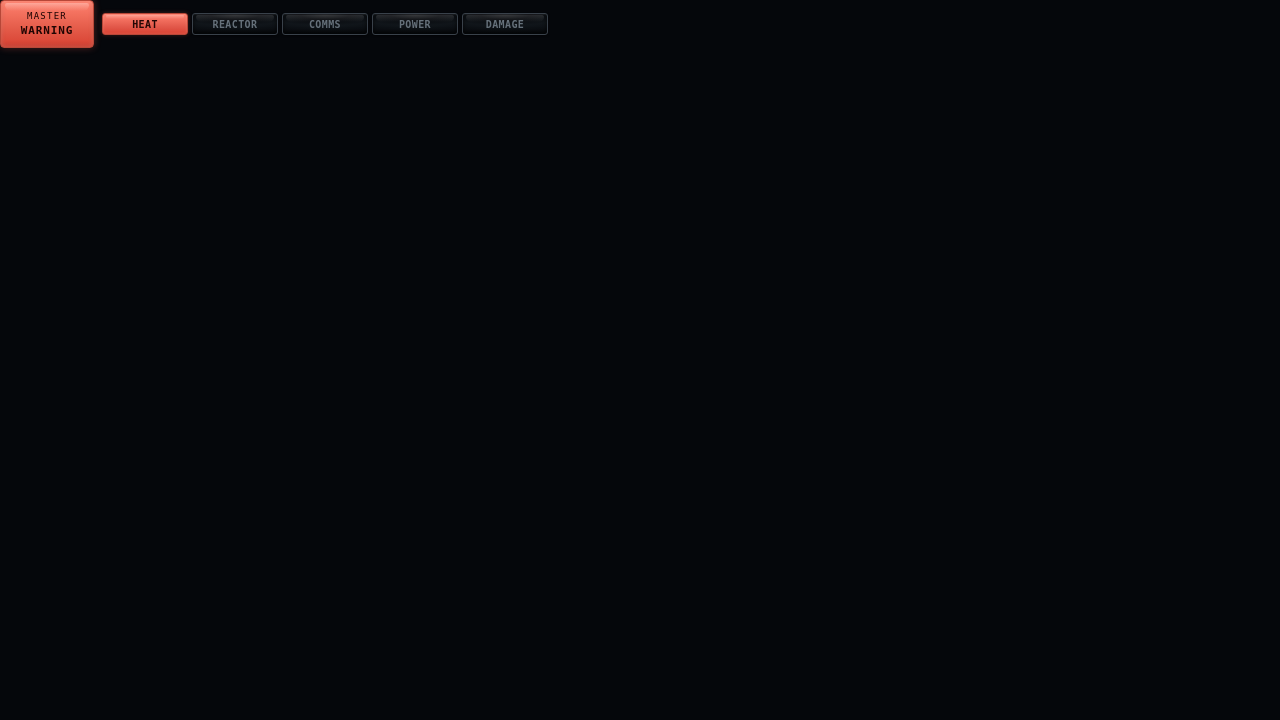
Test case: Flight annunciator surface › acknowledges an unseen warning when its lamp opens the accessible history
Click the button with aria-label "Master warning, unacknowledged" at [47, 24], box [0, 0, 94, 48]
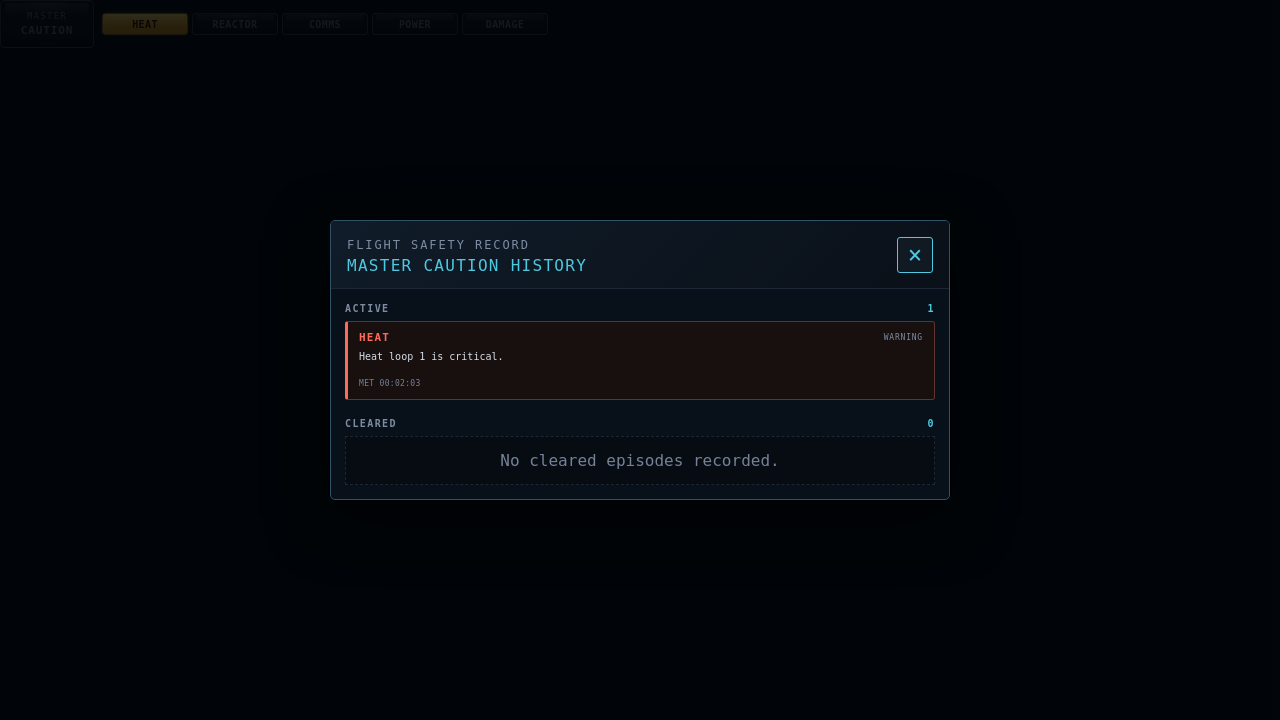
Expected: the dialog "Master caution history" is shown, [330, 220, 950, 500]
Expected: the text "Heat loop 1 is critical." is shown, [359, 351, 504, 362]
Press Escape
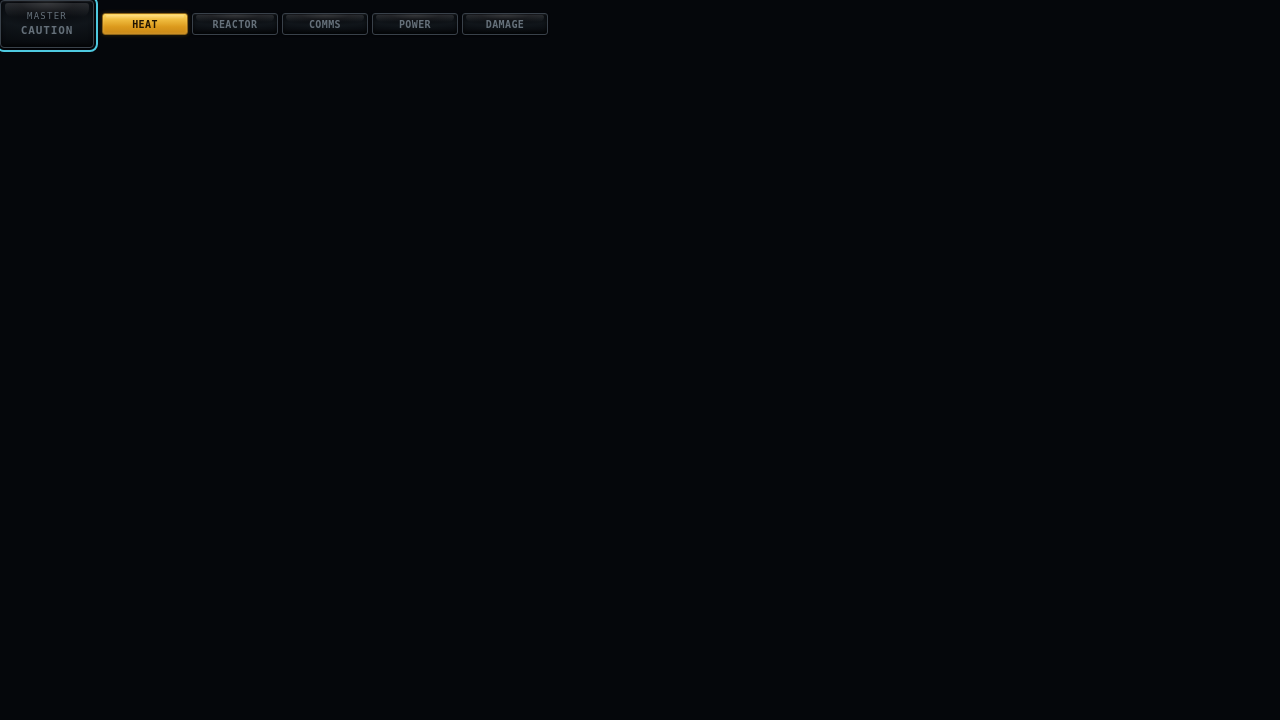
Expected: the dialog is gone
